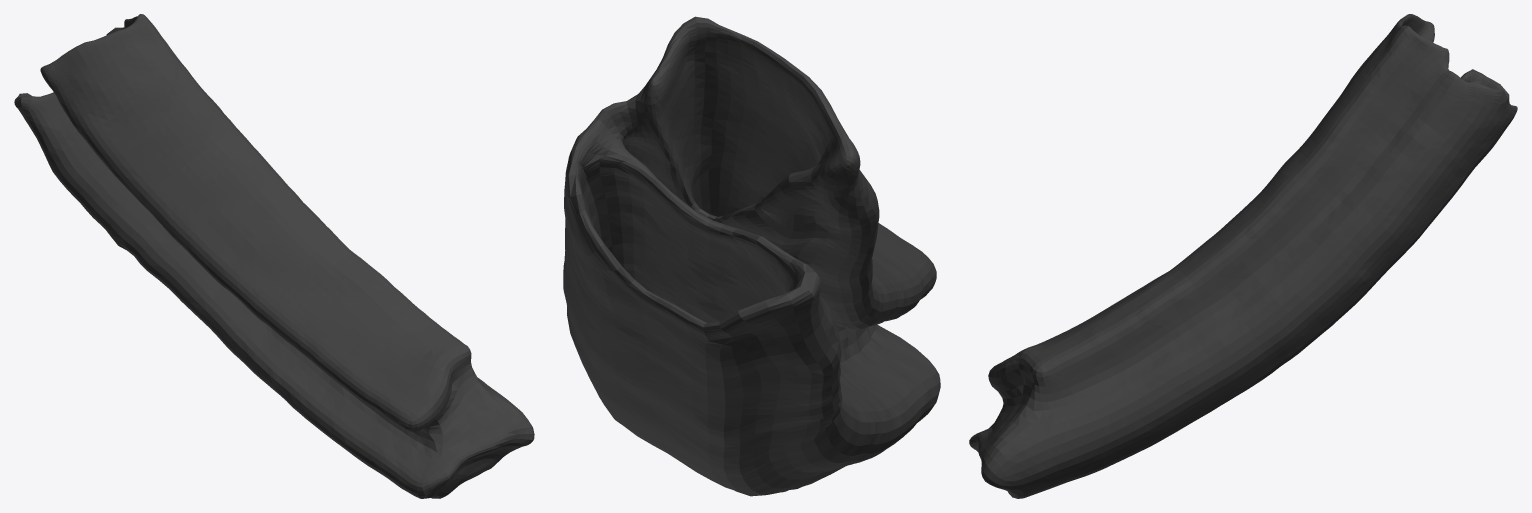
Rendered from tooth_rabbit_410_low.glb.
The picture shows the model from 3 angles, left to right: view 1: azimuth 30°, elevation 25°; view 2: azimuth 150°, elevation 25°; view 3: azimuth 270°, elevation 25°; orthographic projection. The views are drawn at different scales.
Visible parts, largest first — view 1: tooth_rabbit_410_low; view 2: tooth_rabbit_410_low; view 3: tooth_rabbit_410_low.
Part boxes in pixels (<box>): tooth_rabbit_410_low: <box>14,14,534,498</box>; tooth_rabbit_410_low: <box>563,16,940,496</box>; tooth_rabbit_410_low: <box>969,14,1517,498</box>.
Bounding box in the file's own units: 0.6894 × 0.8512 × 1.05.
Materials: 1 (1 with a texture image).
